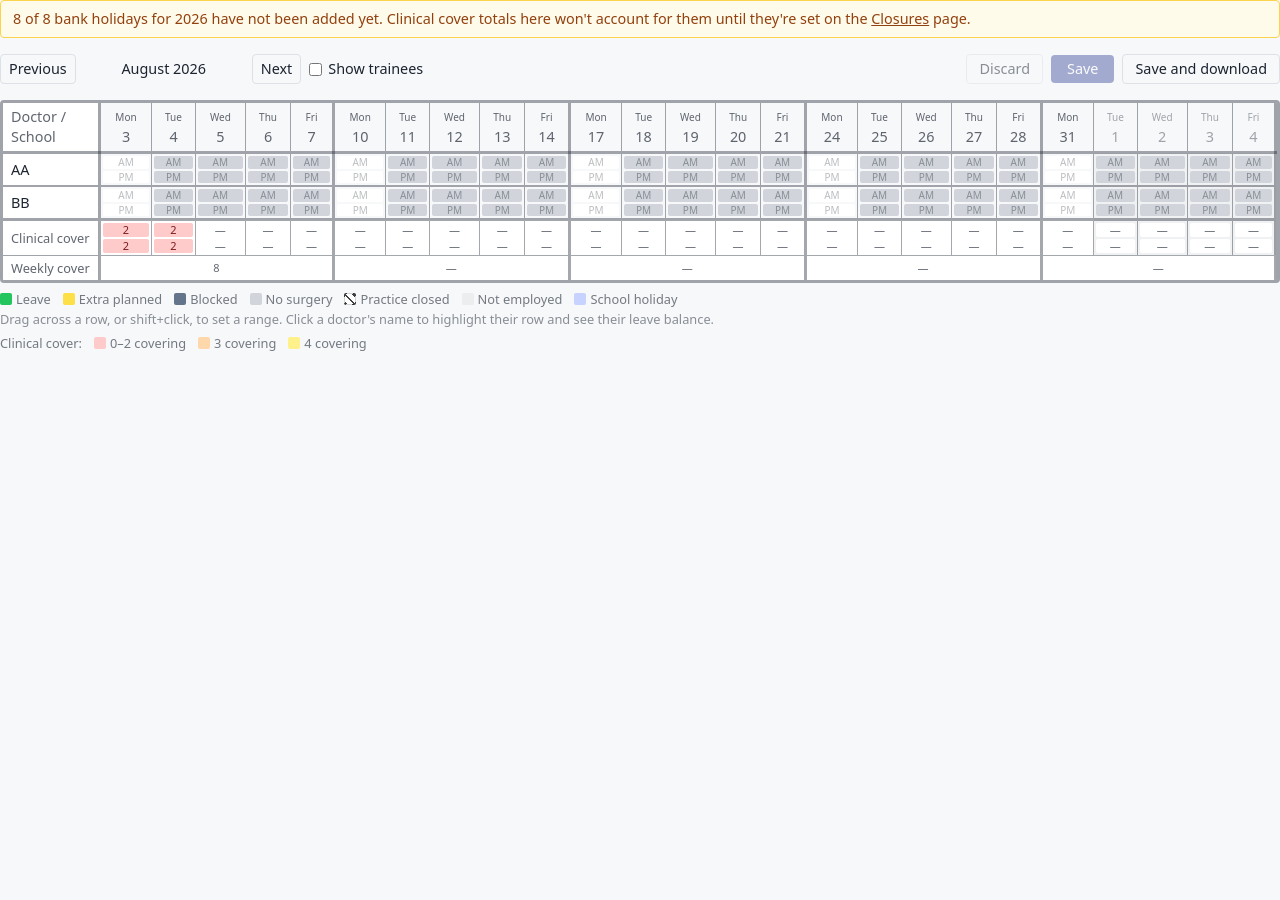
LeavePlanningPage › the shared session year › keeps pending edits across a month change
The width and height of the screenshot is (1280, 900).
Click the 1st button "AM" at (126, 162), box [103,156,149,168]
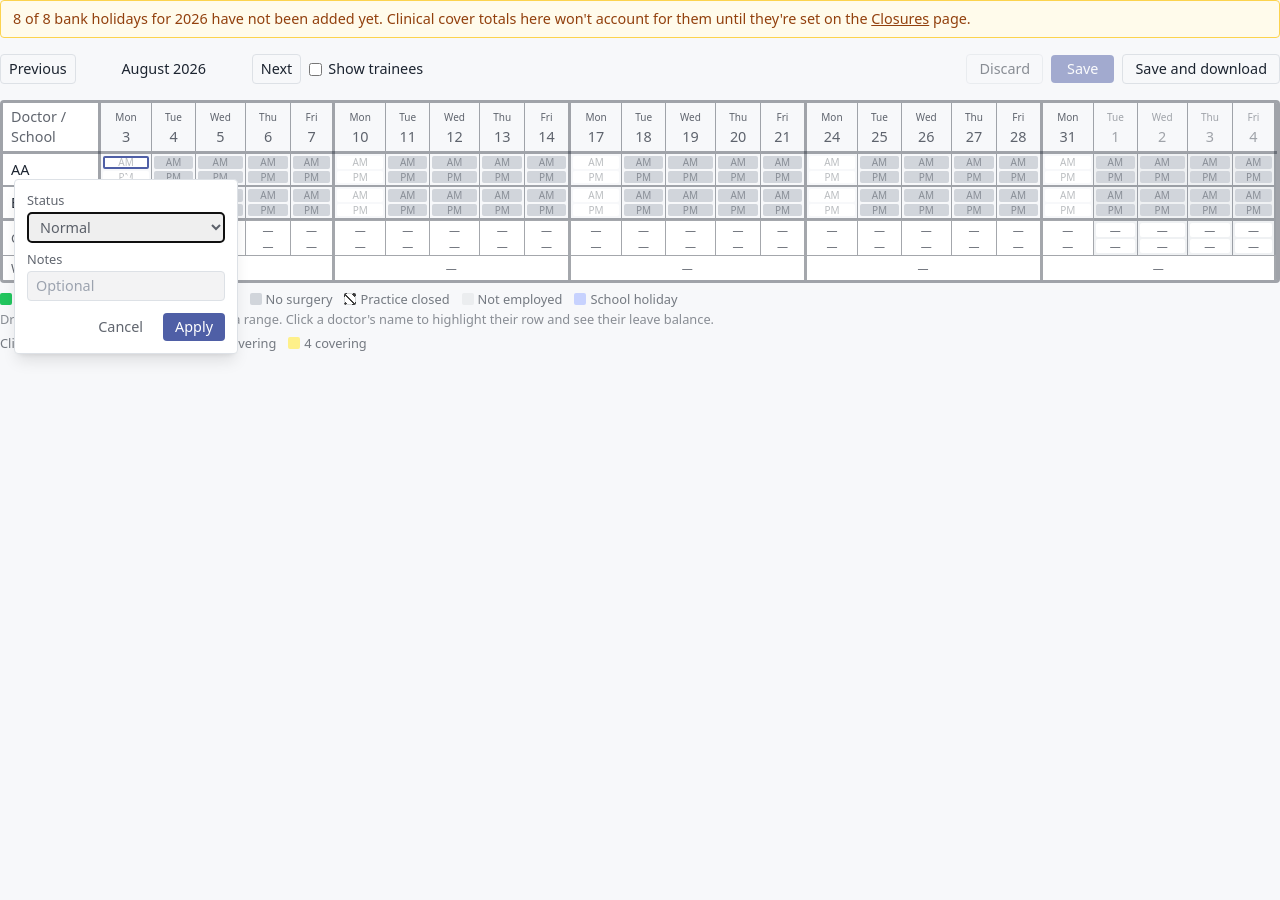
Select "Leave" in the dropdown with test id "planning-cell-state-select" at (126, 228), box [27,212,225,243]
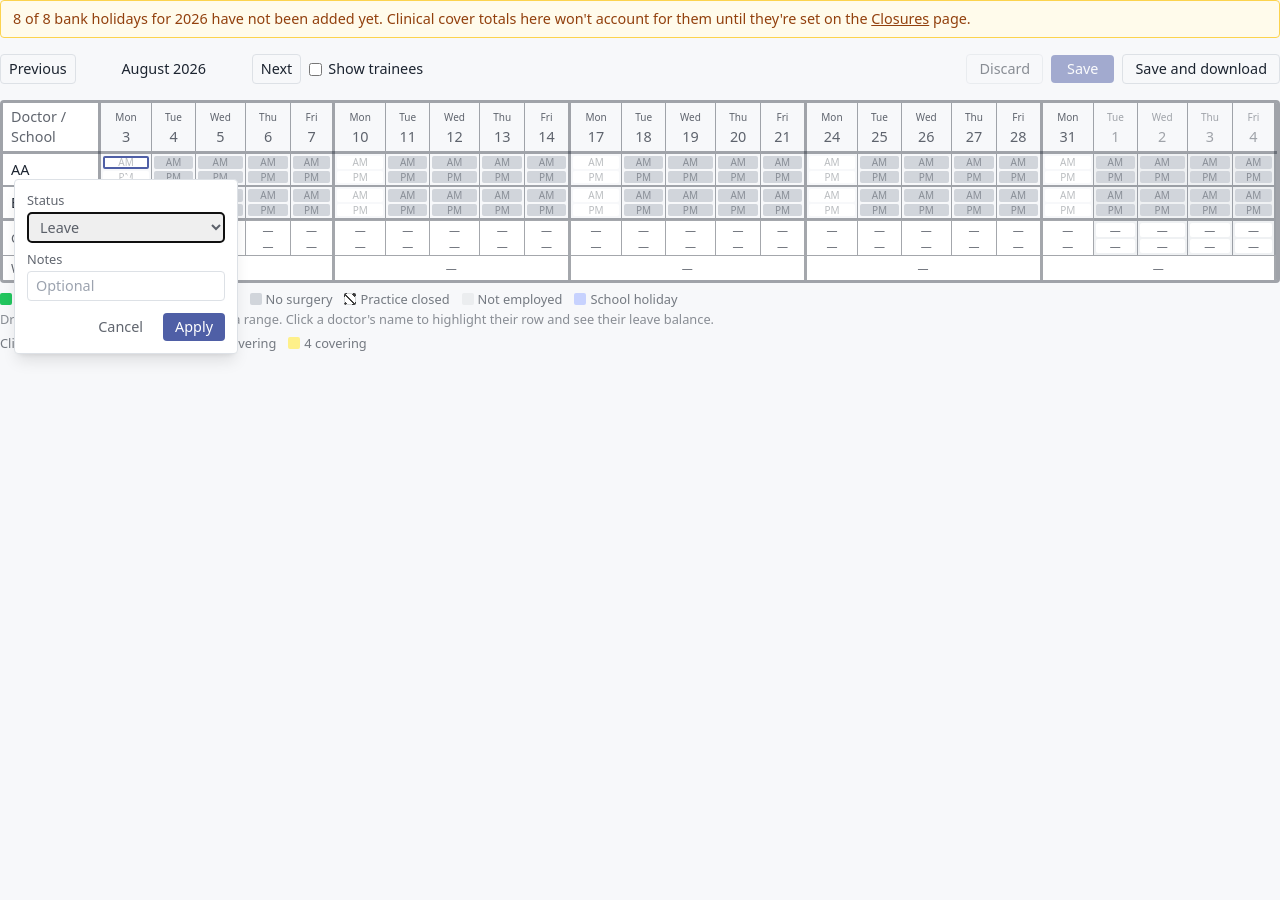
Click the button with test id "planning-cell-apply" at (194, 327), box [163,313,225,341]
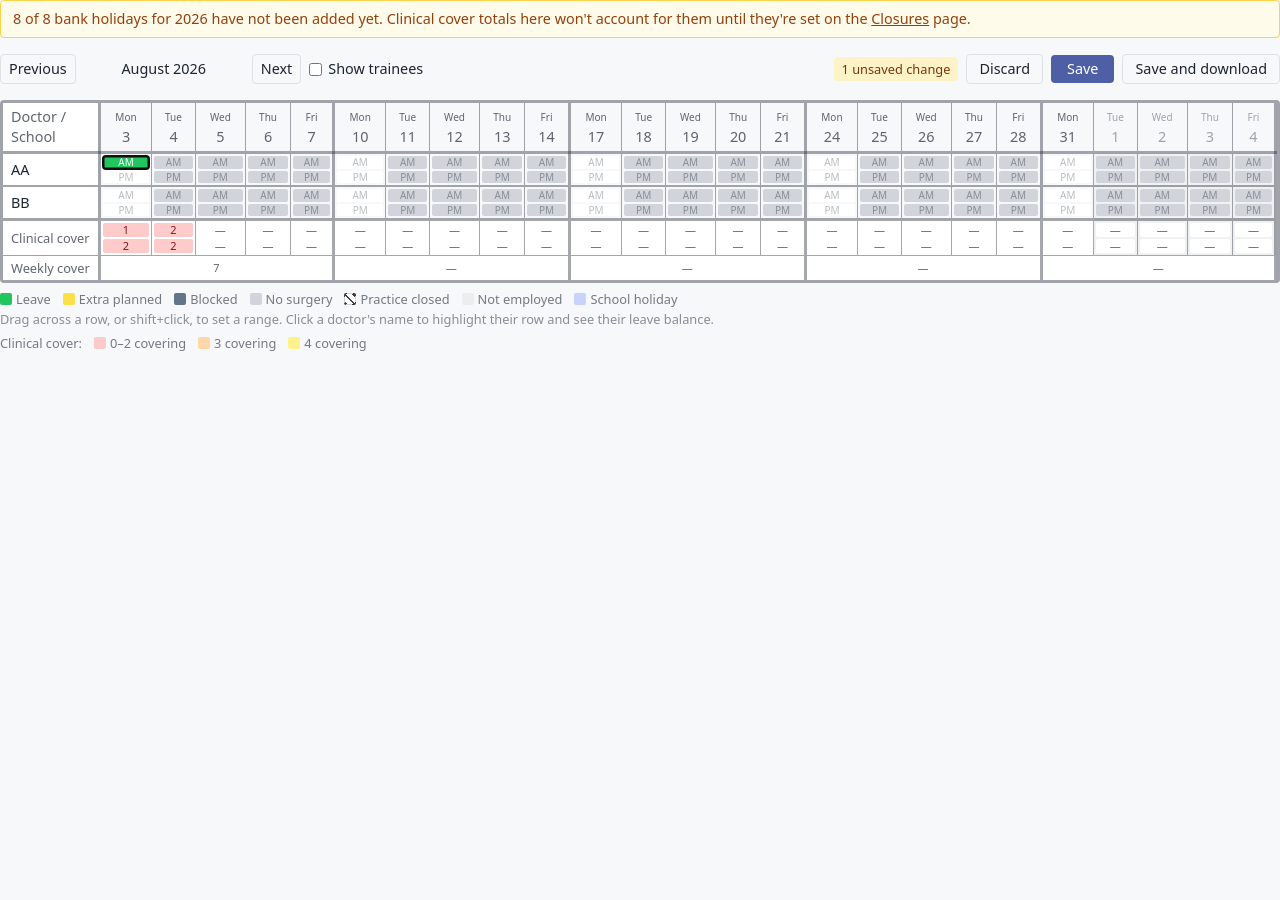
Result: the text with test id "planning-unsaved-count" reads "1 unsaved change" at [834,57,958,81]
Click the button "Next" at (276, 69), box [252,54,301,84]
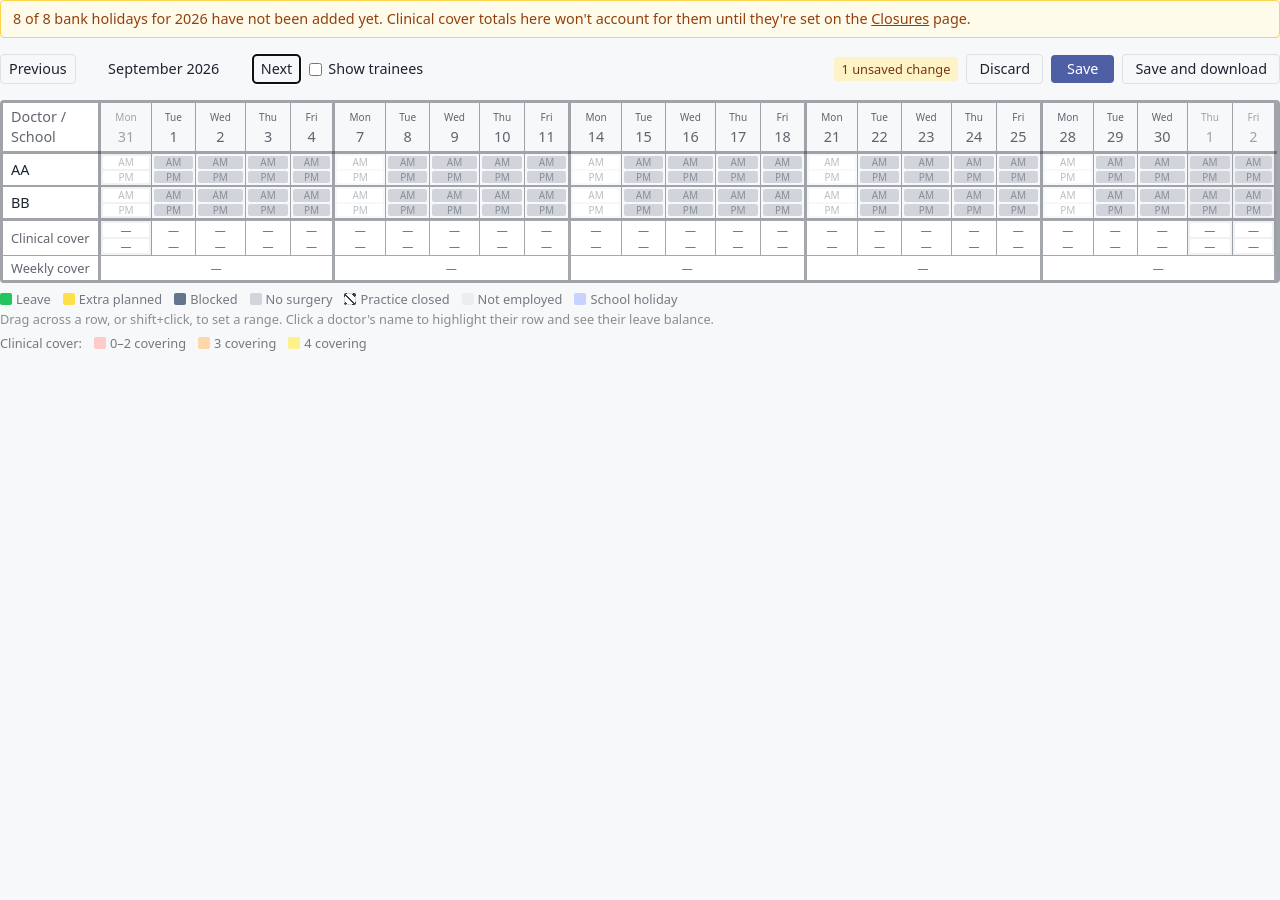
Result: the text with test id "planning-unsaved-count" reads "1 unsaved change" at [834,57,958,81]
Result: the text "September 2026" is shown at [108,59,219,78]
Click the button "Previous" at (38, 69), box [0,54,76,84]
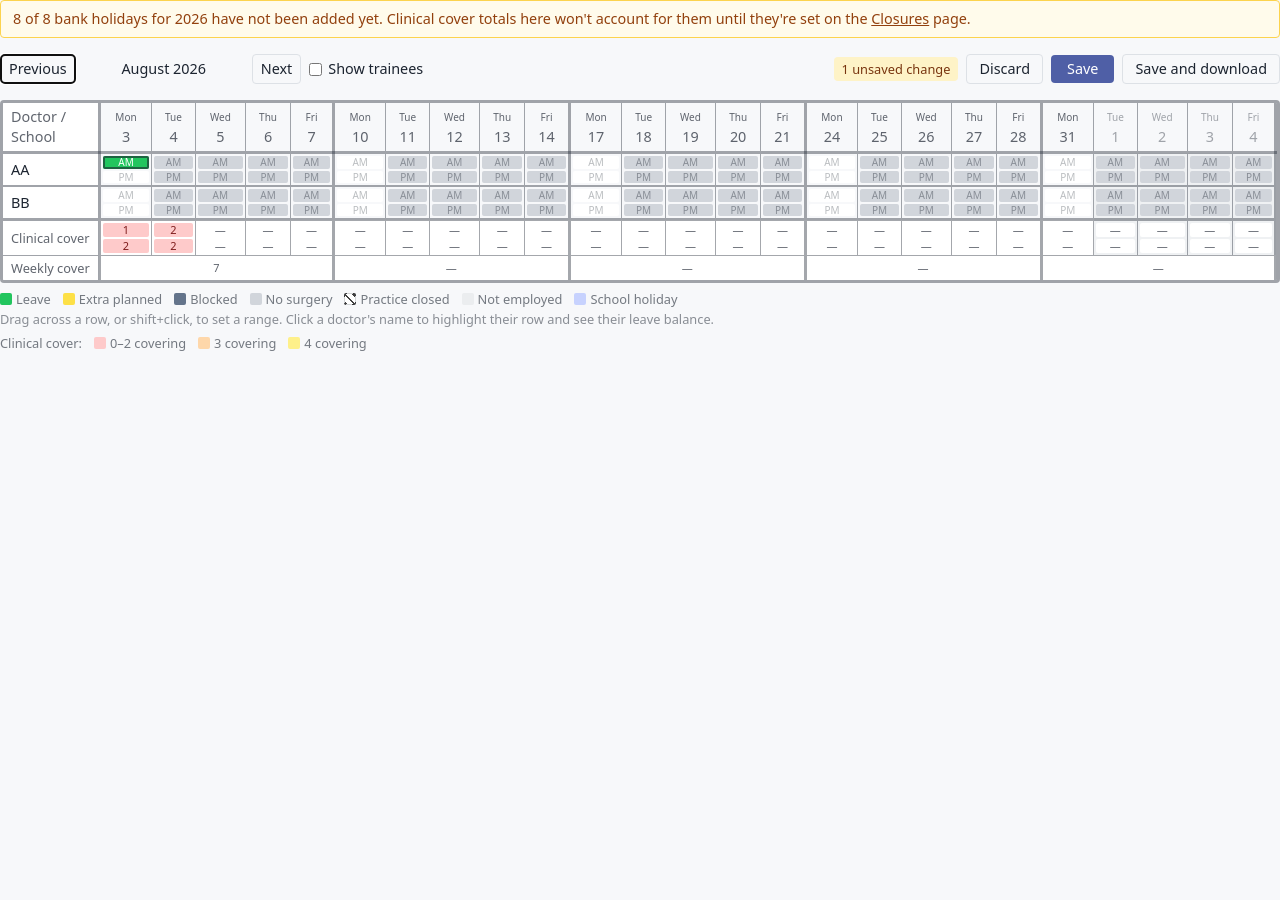
Result: the text "August 2026" is shown at [121,59,206,78]
